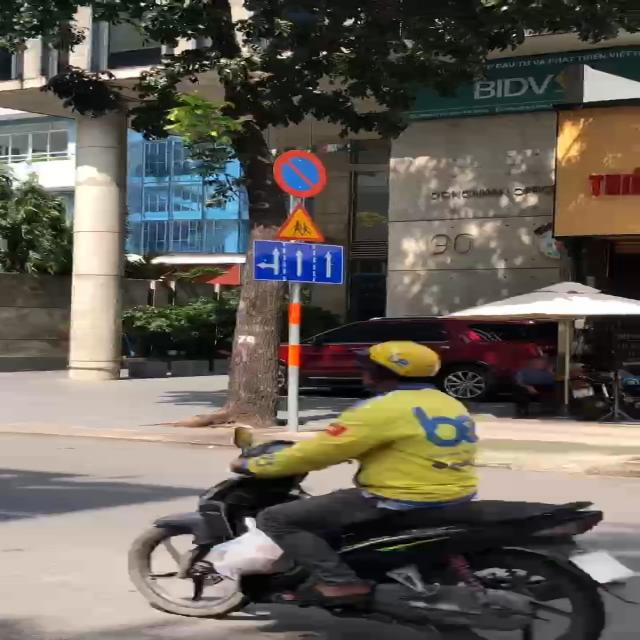Bien bao tre em: (274, 202, 338, 240)
